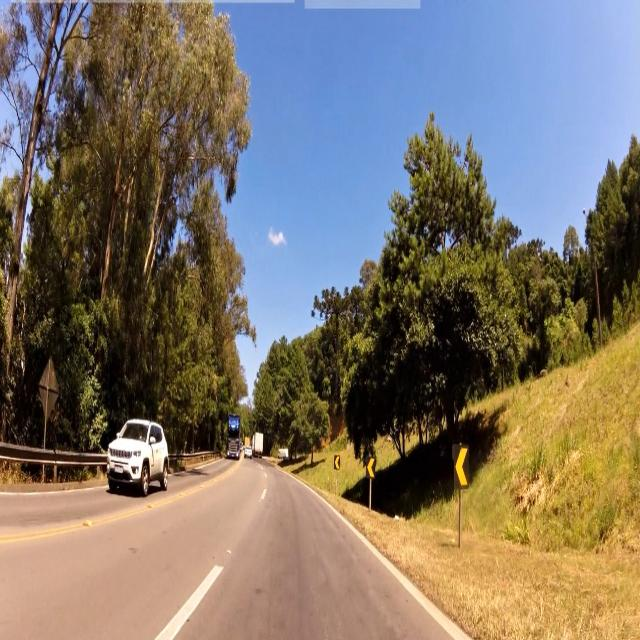Del: (451, 440, 471, 496), (367, 450, 378, 482), (333, 453, 341, 470)
